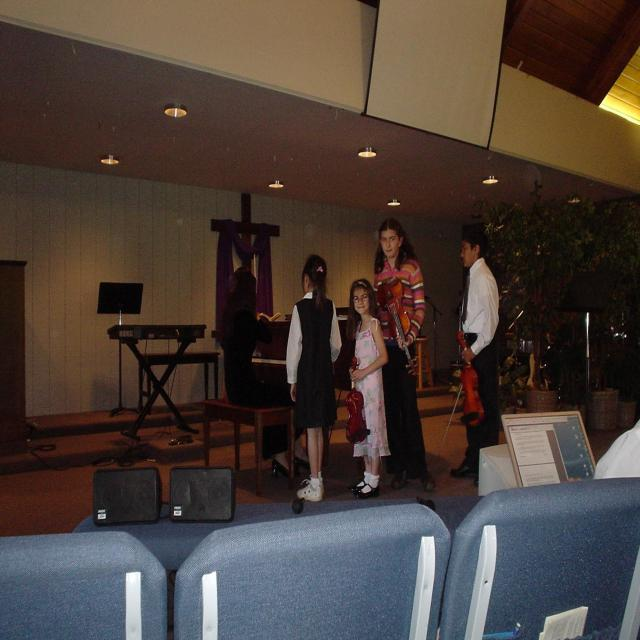violin: (375, 278, 420, 378), (452, 329, 488, 428), (345, 357, 369, 444)
